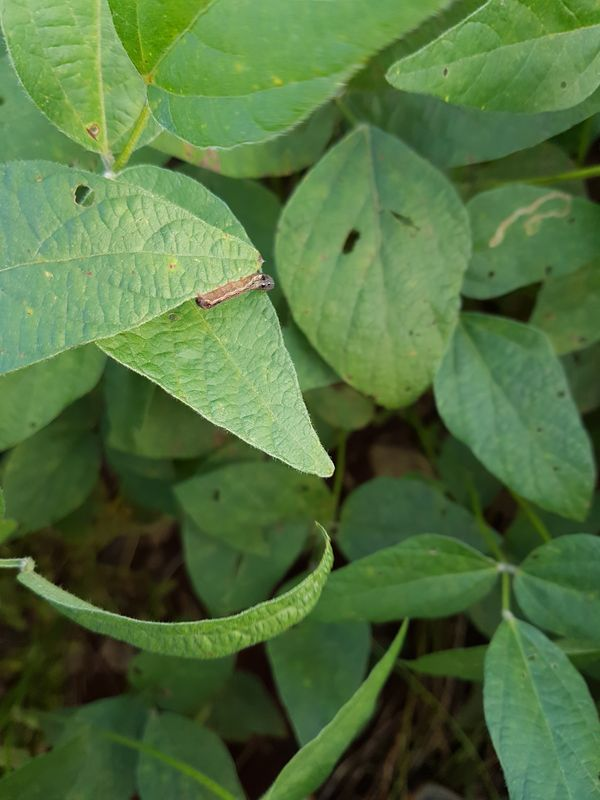Spodoptera_albula: (191, 261, 281, 318)
